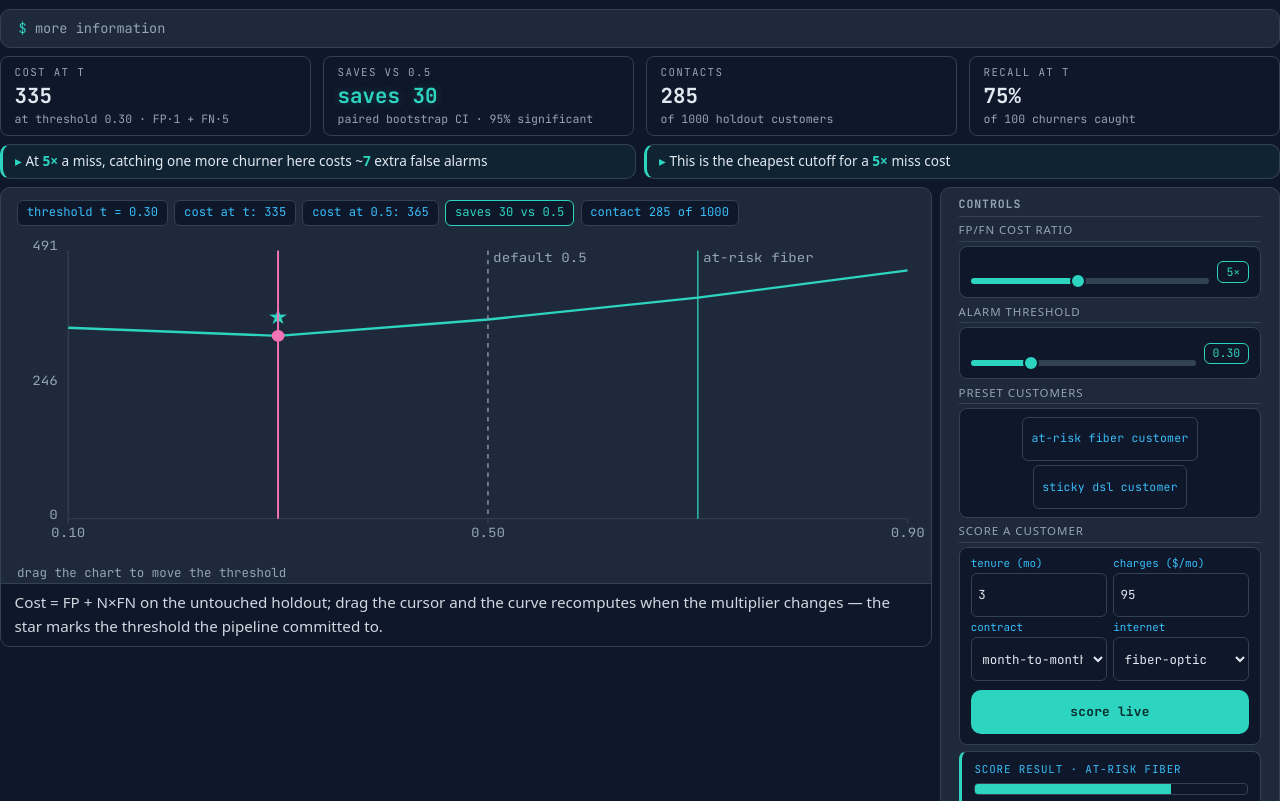
it: ChurnSandbox › synchronizes the labelled native threshold range with cost and outcomes
Set the slider labelled "Alarm threshold" to "3" at (1135, 353), box [971, 331, 1196, 375]
(page scrolled)
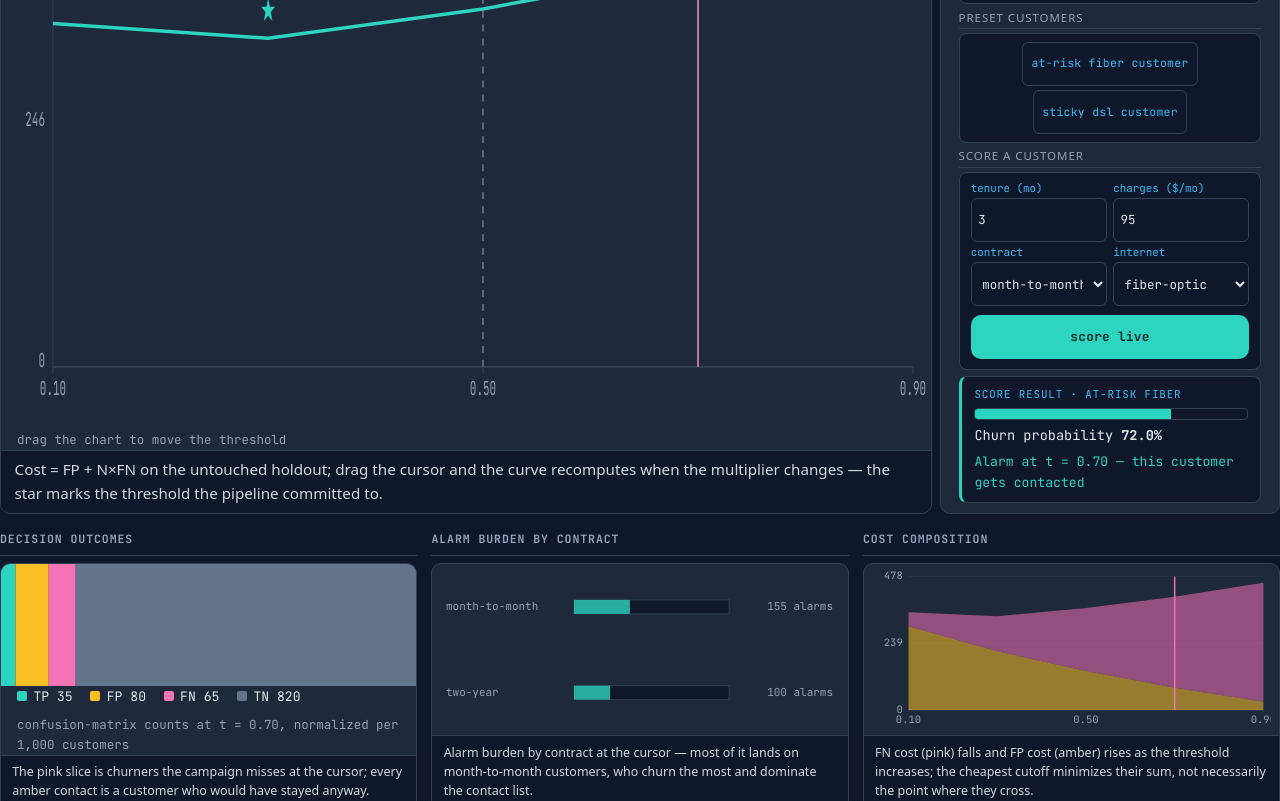
expect the text "TP 35" is shown: met, box [33, 686, 73, 707]
expect the text "FP 80" is shown: met, box [107, 686, 146, 707]
expect the text "FN 65" is shown: met, box [180, 686, 219, 707]
